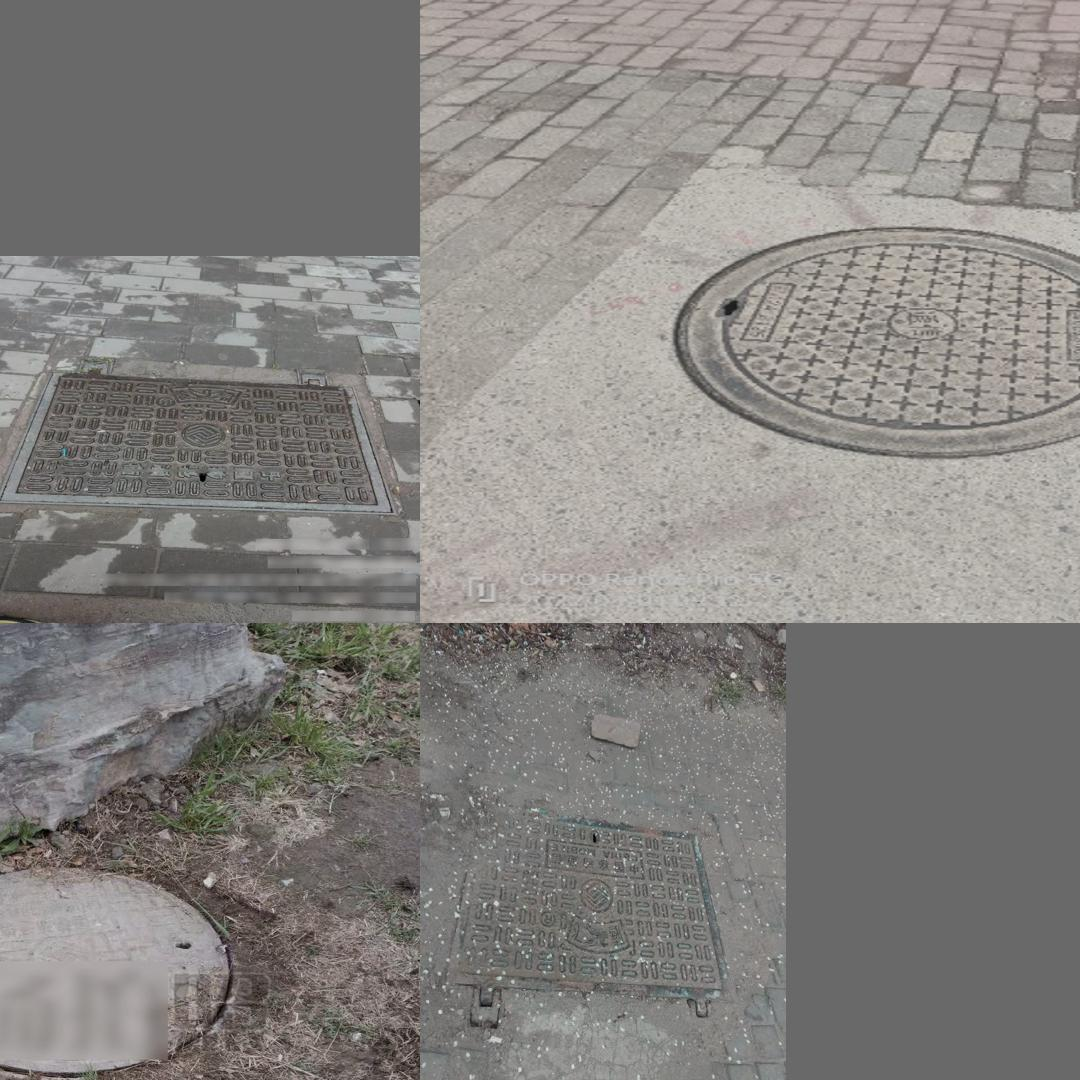good: (675, 226, 1080, 457), (0, 358, 397, 514), (444, 809, 729, 1025), (0, 867, 230, 1080)
